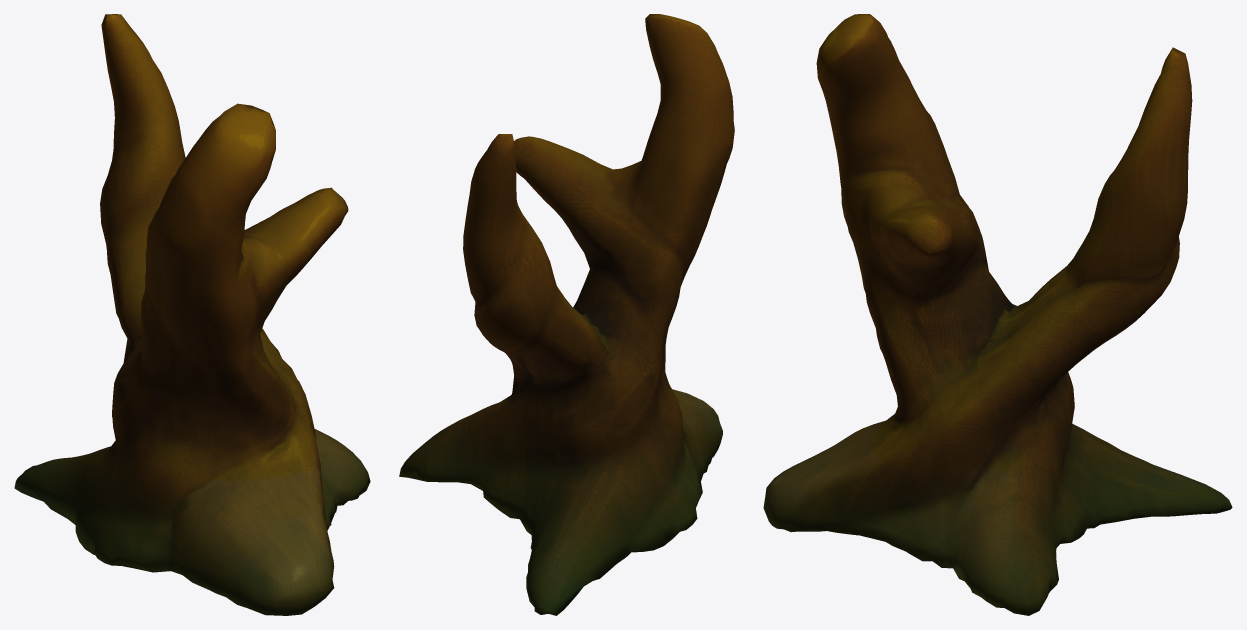
File: tree1.fbx
The picture shows the model from 3 angles, left to right: view 1: azimuth 30°, elevation 25°; view 2: azimuth 150°, elevation 25°; view 3: azimuth 270°, elevation 25°; orthographic projection. The views are drawn at different scales.
Parts seen in each view (by area): view 1: Tree_lo; view 2: Tree_lo; view 3: Tree_lo.
Part boxes in pixels (box(x1,y1,x2,y2)): Tree_lo: box(14, 14, 370, 615); Tree_lo: box(399, 14, 734, 615); Tree_lo: box(763, 14, 1232, 615).
Size of the model in its own units: 495 by 826 by 683.
Materials: 1 (1 with a texture image).
